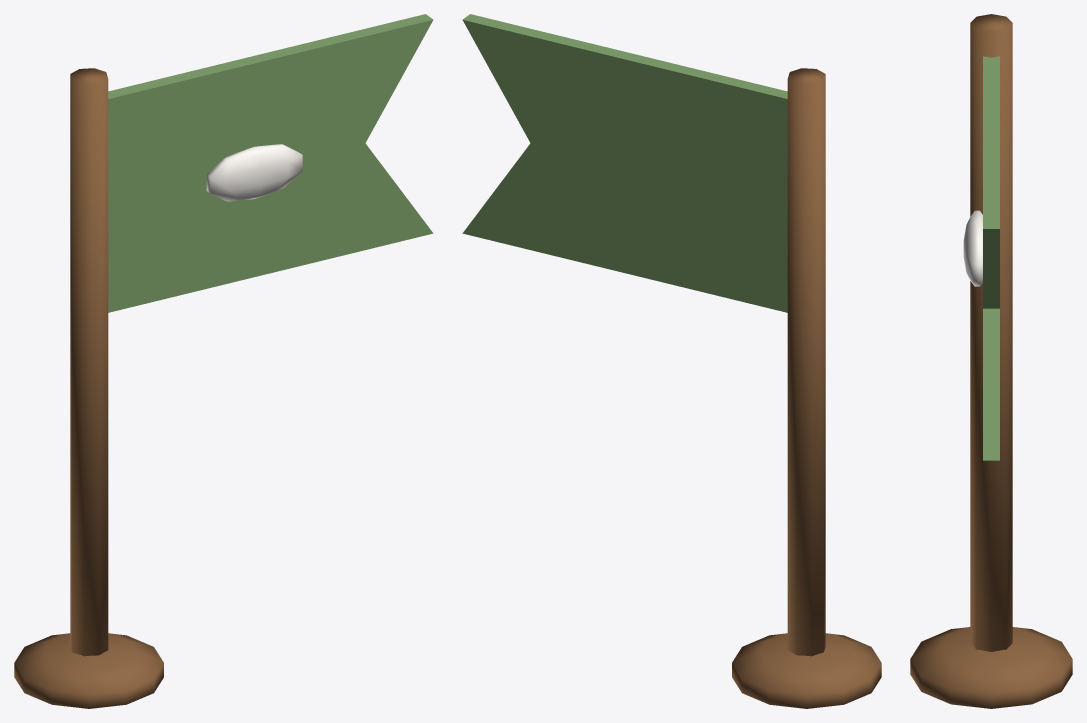
File: festival-part-flag.glb
The picture shows the model from 3 angles, left to right: view 1: azimuth 30°, elevation 25°; view 2: azimuth 150°, elevation 25°; view 3: azimuth 270°, elevation 25°; orthographic projection. The views are drawn at different scales.
Visible parts, largest first — view 1: part; view 2: part; view 3: part.
Part boxes in pixels (x1,y1,x2,y2): part: (14,14,433,708); part: (462,14,881,708); part: (910,14,1072,708).
Size of the model in its own units: 0.3571 by 0.52 by 0.1141.
